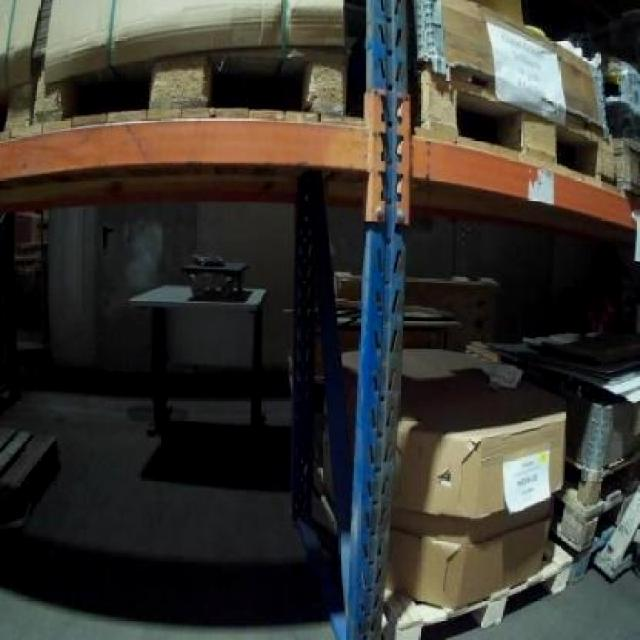pallets: (391, 349, 563, 605)
